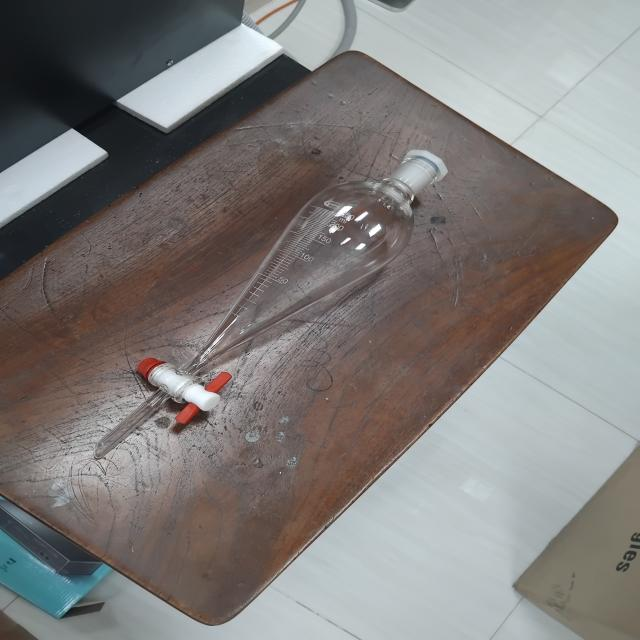Separating_Funnel: (59, 121, 482, 486)
